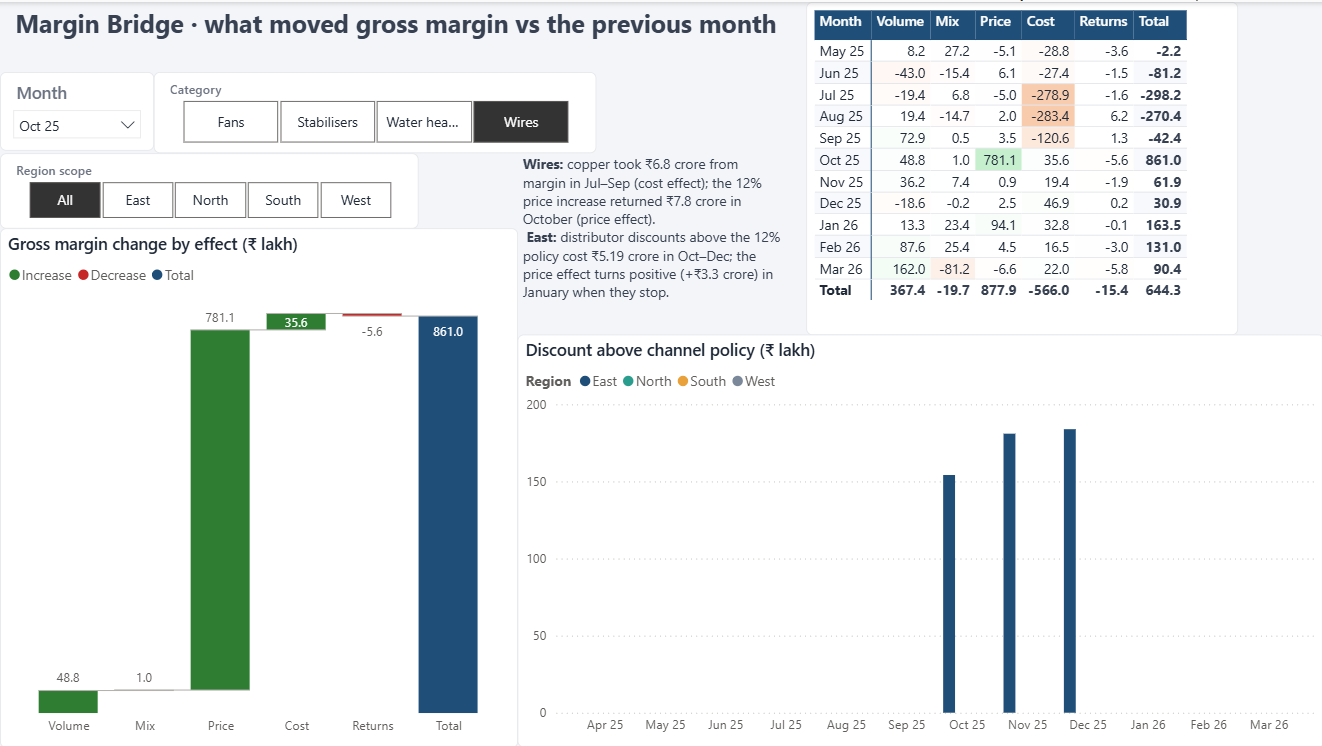

The dashboard page shown, as its layout file describes it:
{"tool":"powerbi","page":{"name":"Margin Bridge","canvas":[1280,720],"ordinal":2},"visuals":[{"type":"textbox","box":[10,0,752.9,52.9],"z":0},{"type":"slicer","fields":{"Values":["Months.Month name"]},"box":[0,67.1,148.6,75.7],"z":1},{"type":"slicer","fields":{"Values":["Categories.Category"]},"box":[148.6,67.1,427.1,78.6],"z":2},{"type":"slicer","fields":{"Values":["margin_bridge_long.scope"]},"box":[0,145.7,404.3,72.9],"z":3},{"type":"waterfallChart","title":"Gross margin change by effect (₹ lakh)","fields":{"Category":["margin_bridge_long.effect"],"Y":["_Measures.Bridge effect (₹ lakh)"]},"box":[0,218.6,500,501.4],"z":4},{"type":"pivotTable","fields":{"Rows":["Months.Month name"],"Columns":["margin_bridge_long.effect"],"Values":["_Measures.Bridge effect (₹ lakh)"]},"box":[778.6,0,417.1,321.4],"z":5},{"type":"clusteredColumnChart","title":"Discount above channel policy (₹ lakh)","fields":{"Category":["Months.Month name"],"Y":["_Measures.Discount above policy (₹ lakh)"],"Series":["Regions.Region"]},"box":[500,321.4,780,398.6],"z":6},{"type":"textbox","box":[500,142.9,262.9,178.6],"z":7}]}

Visuals, with their boxes in screenshot pixels (x1, y1, x2, y2), scaled from the page's 1280x720 canvas onto the 1322x746 screenshot:
textbox: [x1=10, y1=0, x2=788, y2=55]
slicer - Months.Month name: [x1=0, y1=70, x2=153, y2=148]
slicer - Categories.Category: [x1=153, y1=70, x2=595, y2=151]
slicer - margin_bridge_long.scope: [x1=0, y1=151, x2=418, y2=226]
"Gross margin change by effect (₹ lakh)" waterfallChart: [x1=0, y1=226, x2=516, y2=745]
pivotTable - Months.Month name x margin_bridge_long.effect: [x1=804, y1=0, x2=1235, y2=333]
"Discount above channel policy (₹ lakh)" clusteredColumnChart: [x1=516, y1=333, x2=1321, y2=745]
textbox: [x1=516, y1=148, x2=788, y2=333]
